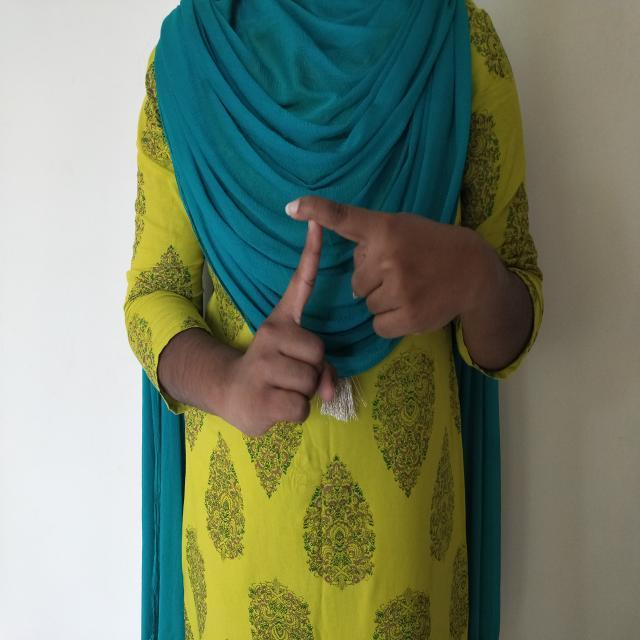T: (227, 184, 469, 441)
